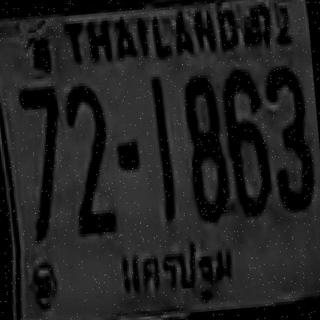N01: (149, 75, 174, 220)
N02: (64, 84, 115, 235), (63, 82, 114, 226)
N03: (263, 64, 315, 209)
N06: (220, 66, 272, 217)
N07: (17, 83, 67, 239)
N08: (180, 73, 230, 220)
P28: (111, 233, 241, 314)
